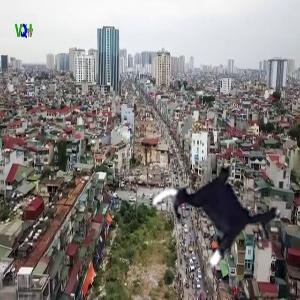drone: (146, 146, 291, 291)
